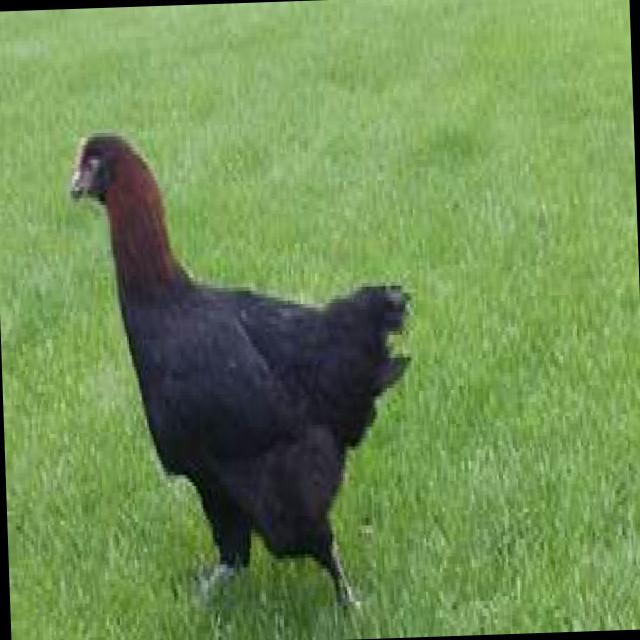chicken: (56, 92, 453, 608)
